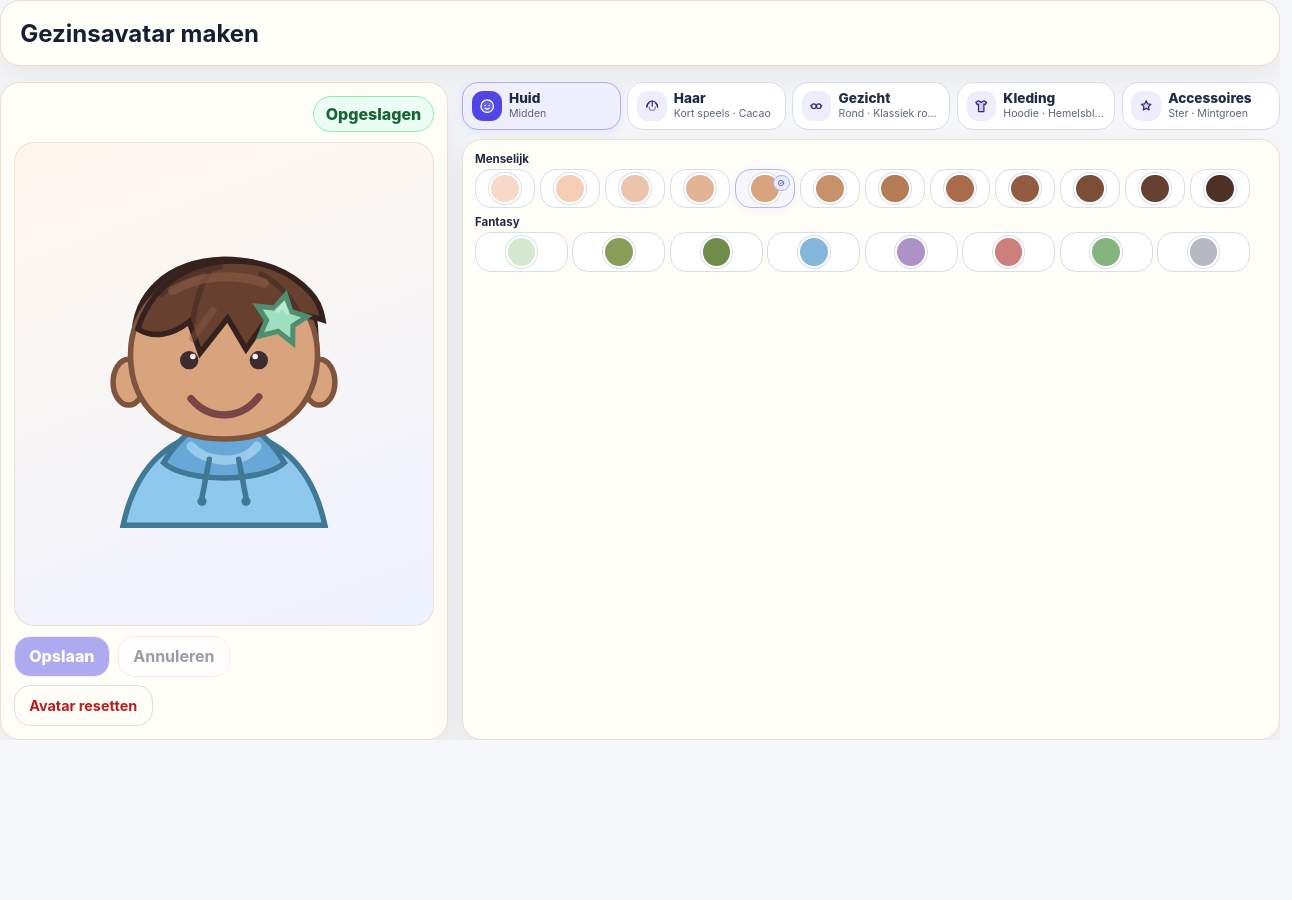
Test case: AvatarEditorPage › shows grouped visual palettes and visual-only style tiles
Expected: the heading "Menselijk" is shown, [475,152,529,166]
Expected: the heading "Fantasy" is shown, [475,215,520,229]
Click the button "Haar Kort speels · Cacao".
click(706, 106)  # box [627,82,786,130]
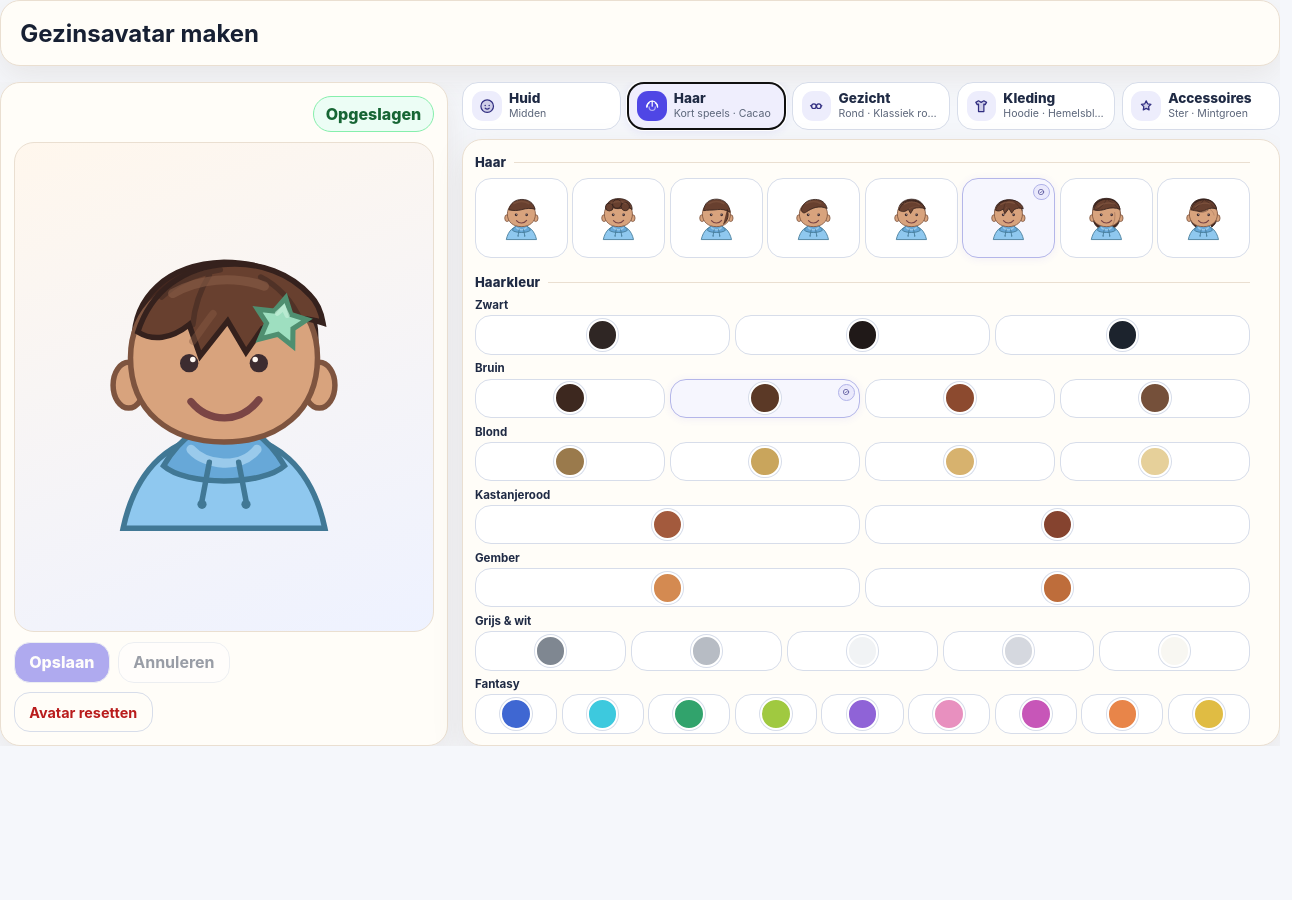
Expected: the button named "Haarkleur: Natuurlijk zwart" is empty, [735,315,990,355]
Result: the button named "Lang zacht" is empty at [1060,178,1153,258]
Click the button "Kleding Hoodie · Hemelsblauw".
click(1036, 106)  # box [957,82,1115,130]
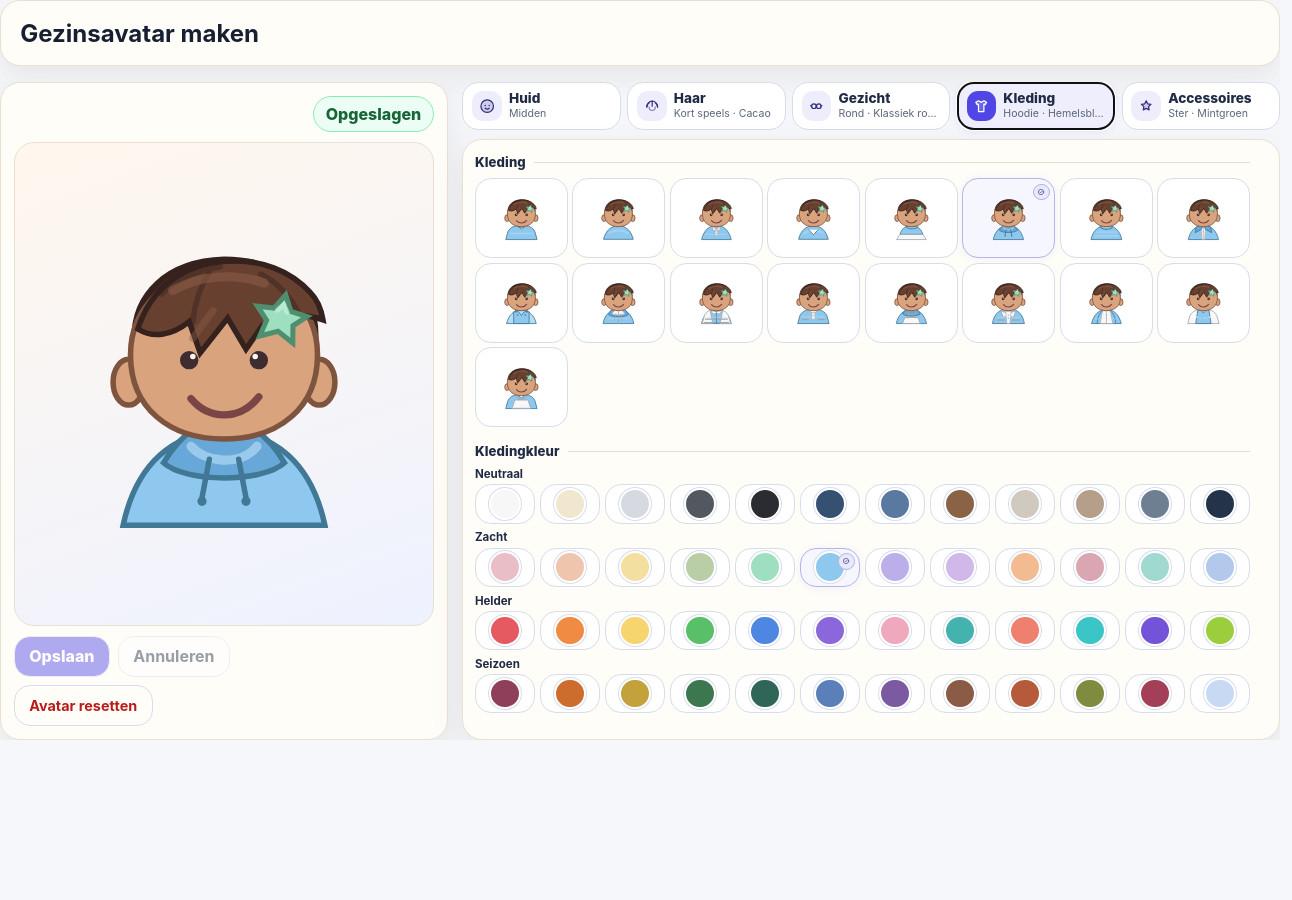
Result: the heading "Neutraal" is shown at [475,467,523,481]
Result: the heading "Zacht" is shown at [475,530,507,544]
Result: the heading "Helder" is shown at [475,594,512,608]
